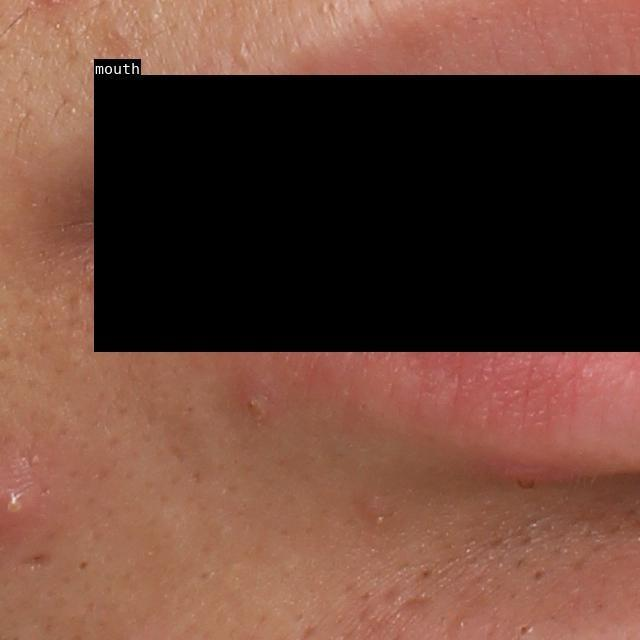atrophic_scar: (20, 551, 54, 569)
comedo: (71, 557, 92, 576), (514, 618, 535, 636), (531, 567, 548, 584)
